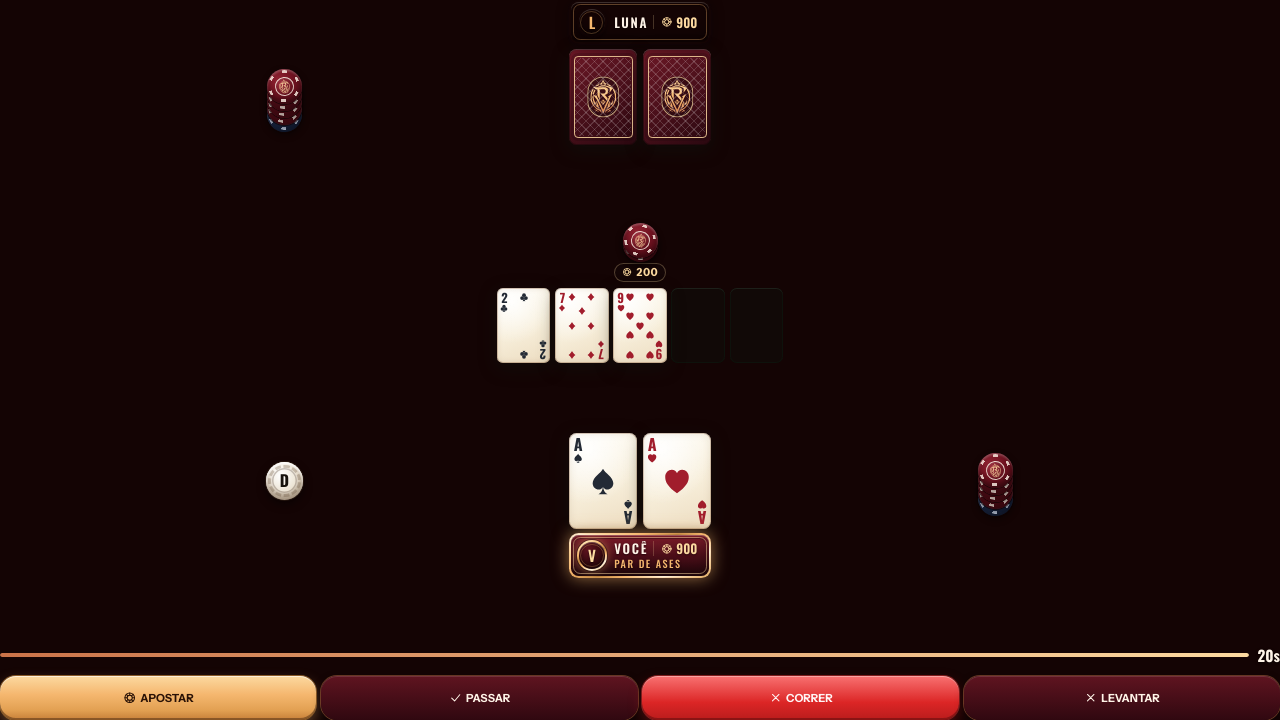
Test: a placa do rival abre o perfil dele › a placa do rival é um botão, e o toque abre o perfil
What coordinates should you click on to do the following:
click the button with test id "seat-opponent"
I would click on:
 (640, 22)
Its box is [569,0,710,44].
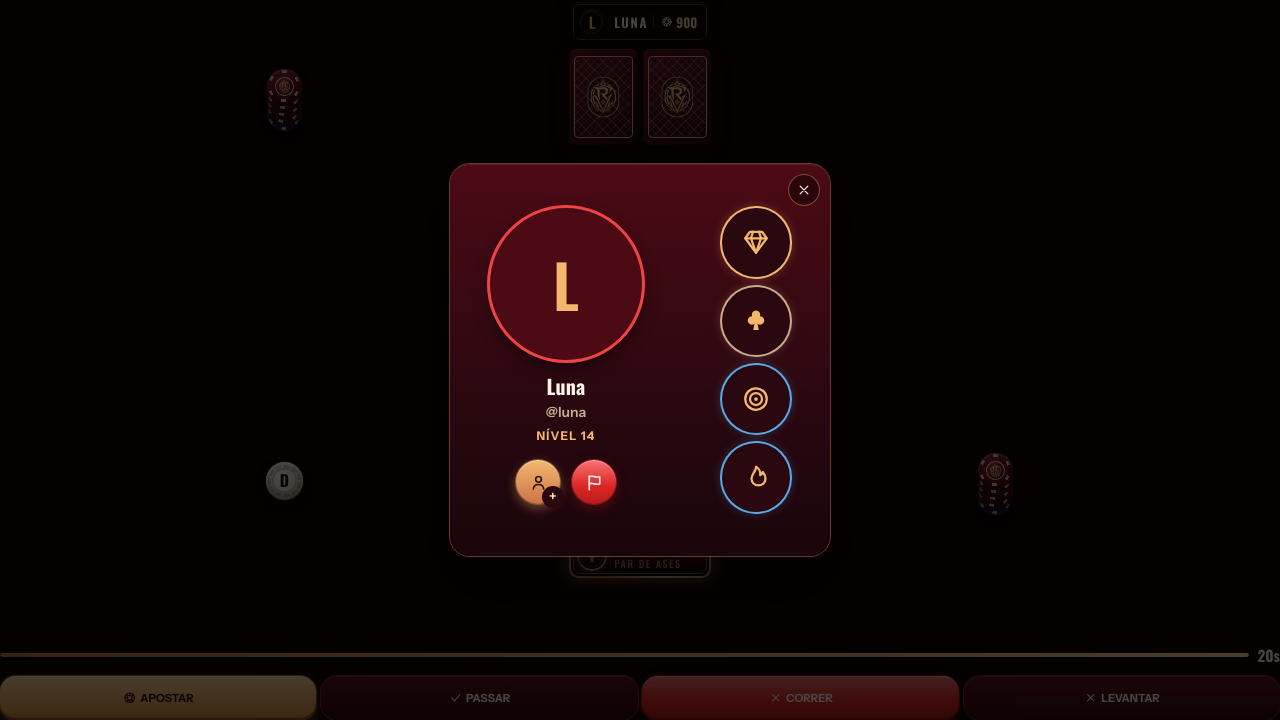
Expected: the dialog with test id "opponent-profile" is shown, [450,164,830,556]
